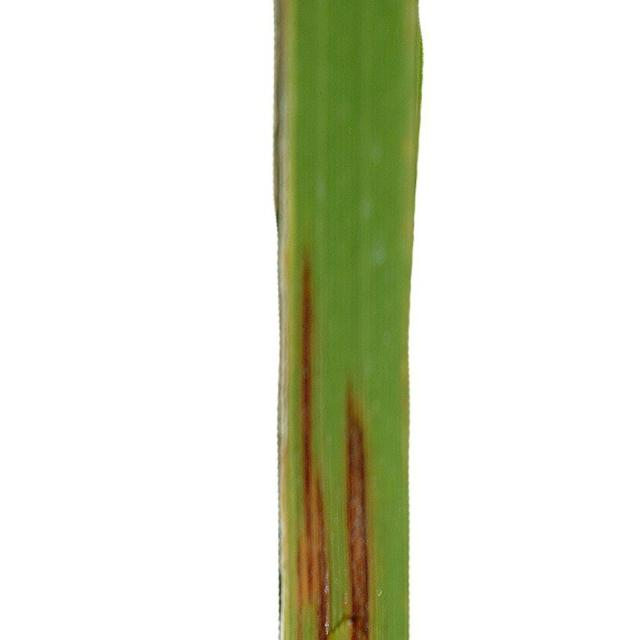Narrow brown: (225, 0, 458, 640)
